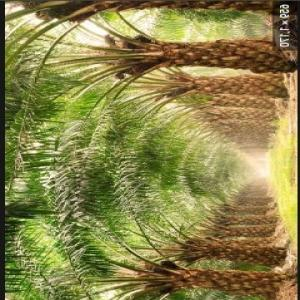palm tree: (4, 0, 296, 299)
